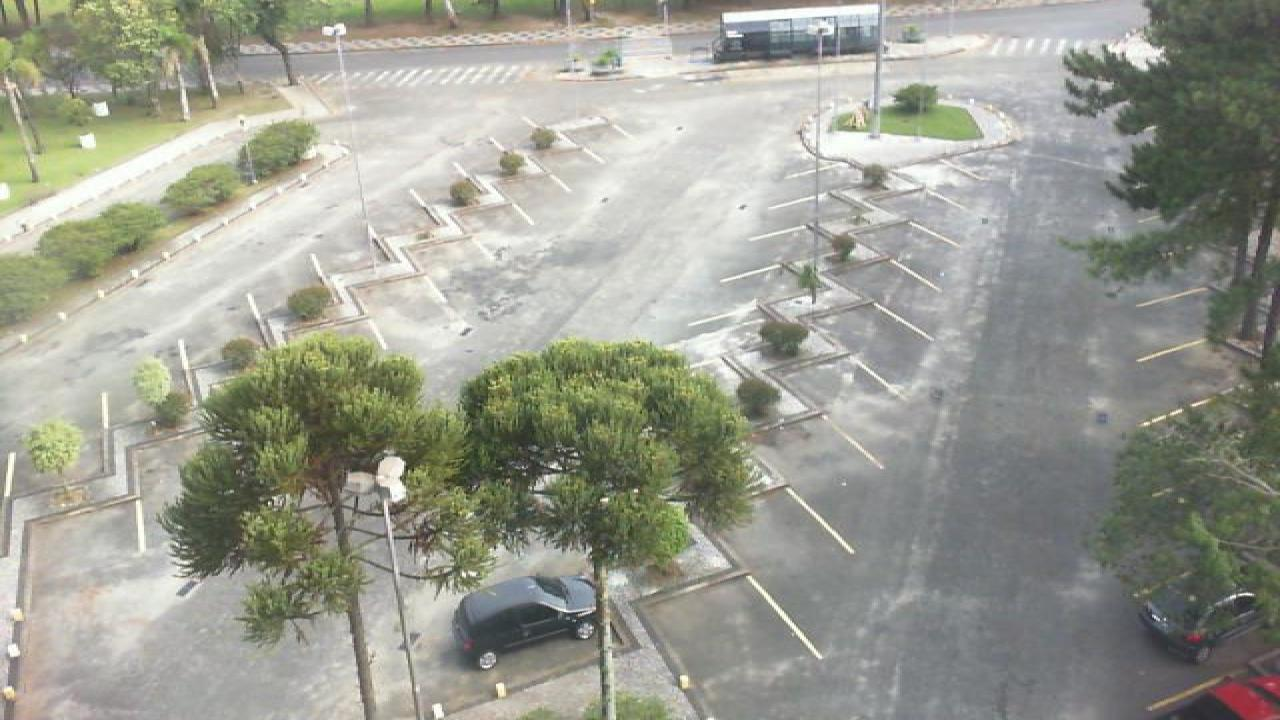Car: (450, 574, 600, 670), (1136, 575, 1260, 665), (1164, 674, 1280, 720)
